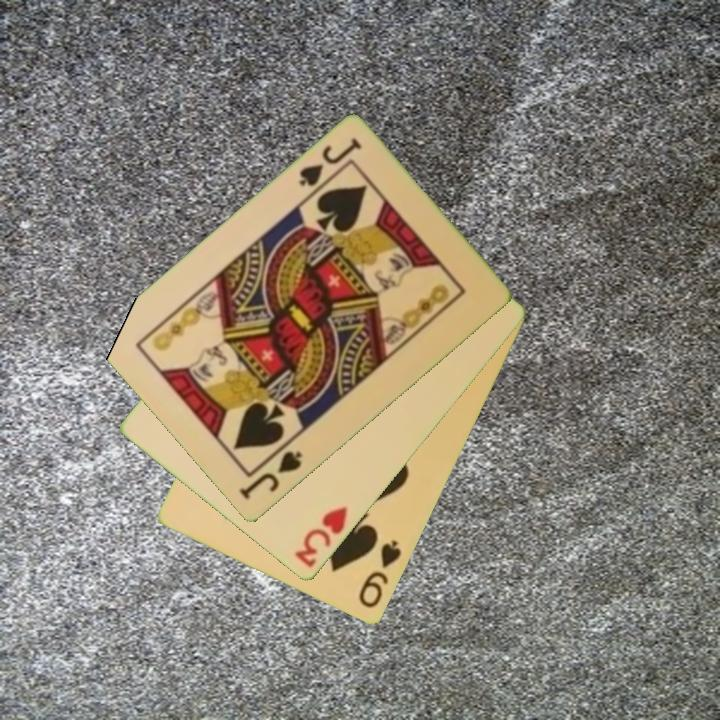3h: (291, 503, 351, 571)
9s: (355, 537, 405, 612)
Js: (235, 447, 306, 503), (295, 134, 365, 190)
